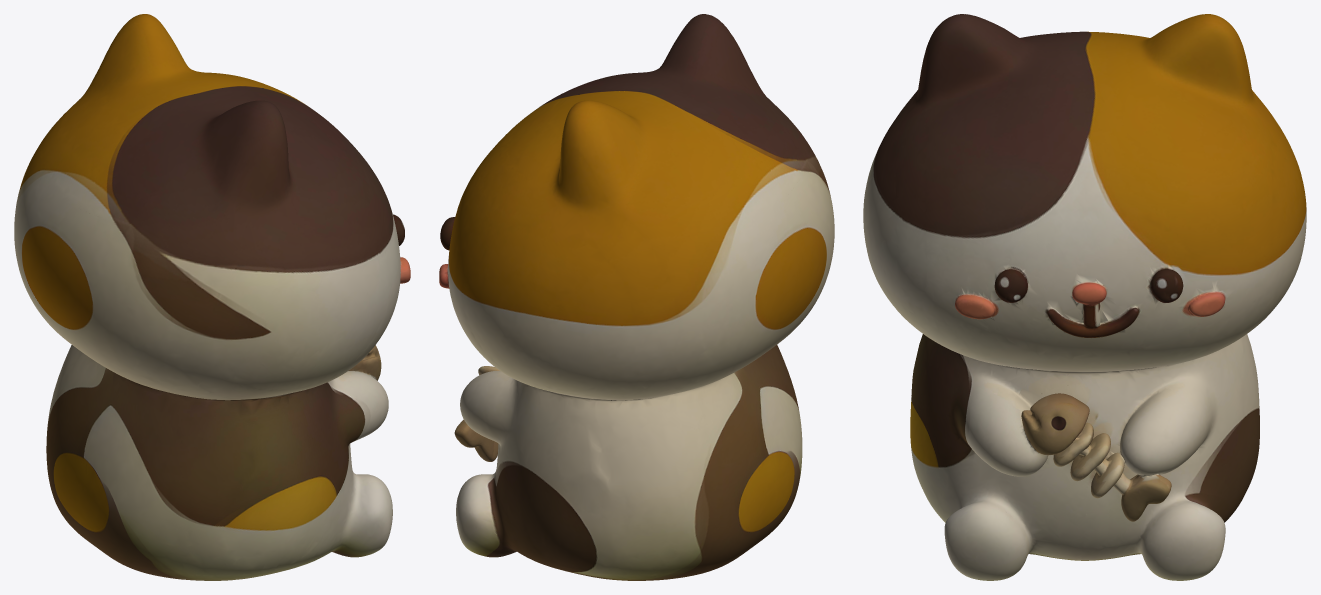
File: cat.glb
3 views of the same model, side by side, from view 1: azimuth 30°, elevation 25°; view 2: azimuth 150°, elevation 25°; view 3: azimuth 270°, elevation 25° (orthographic). The views are drawn at different scales.
Visible parts, largest first — view 1: tripo_node_34eb7519-370e-4488-b113-d034bc0da2dc; view 2: tripo_node_34eb7519-370e-4488-b113-d034bc0da2dc; view 3: tripo_node_34eb7519-370e-4488-b113-d034bc0da2dc.
Boxes of the visible parts, box(x1,y1,x2,y2) form: tripo_node_34eb7519-370e-4488-b113-d034bc0da2dc: box(14, 14, 410, 580); tripo_node_34eb7519-370e-4488-b113-d034bc0da2dc: box(439, 14, 834, 580); tripo_node_34eb7519-370e-4488-b113-d034bc0da2dc: box(863, 14, 1306, 580).
Size of the model in its own units: 0.697 by 1 by 0.7901.
1 material, 1 textured.
